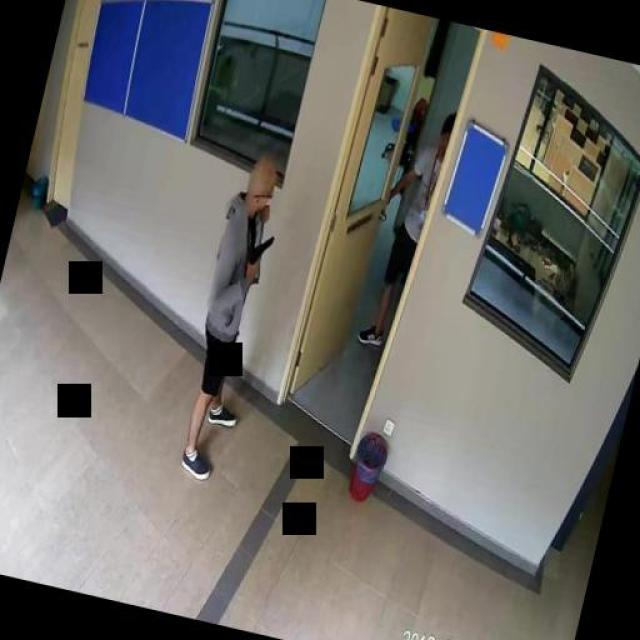gun: (245, 230, 274, 272)
